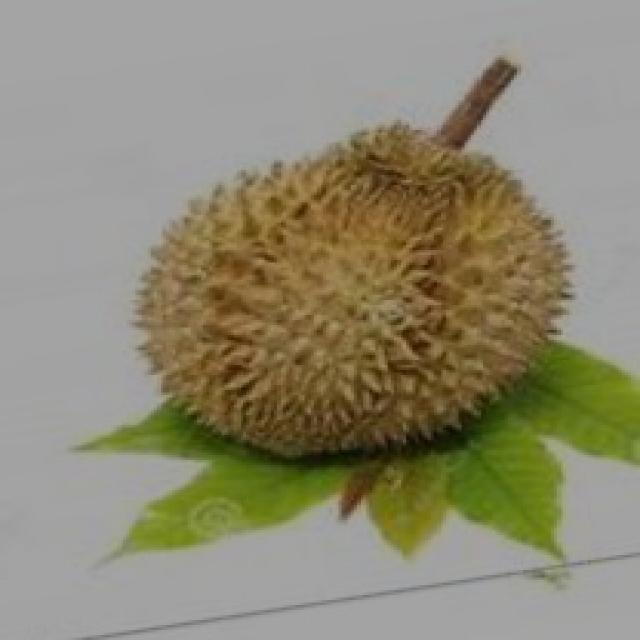fruit: (92, 108, 474, 500)
